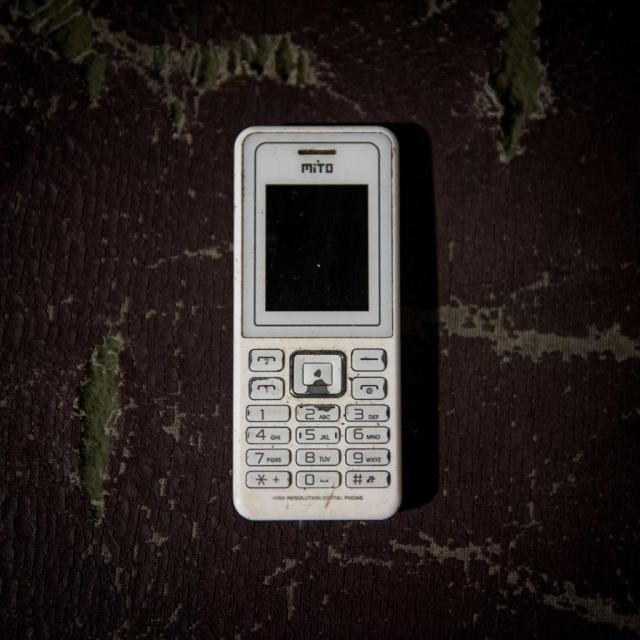Phone: (228, 121, 403, 529)
